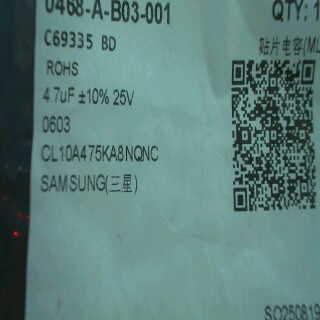4.7uF: (38, 82, 75, 107)
